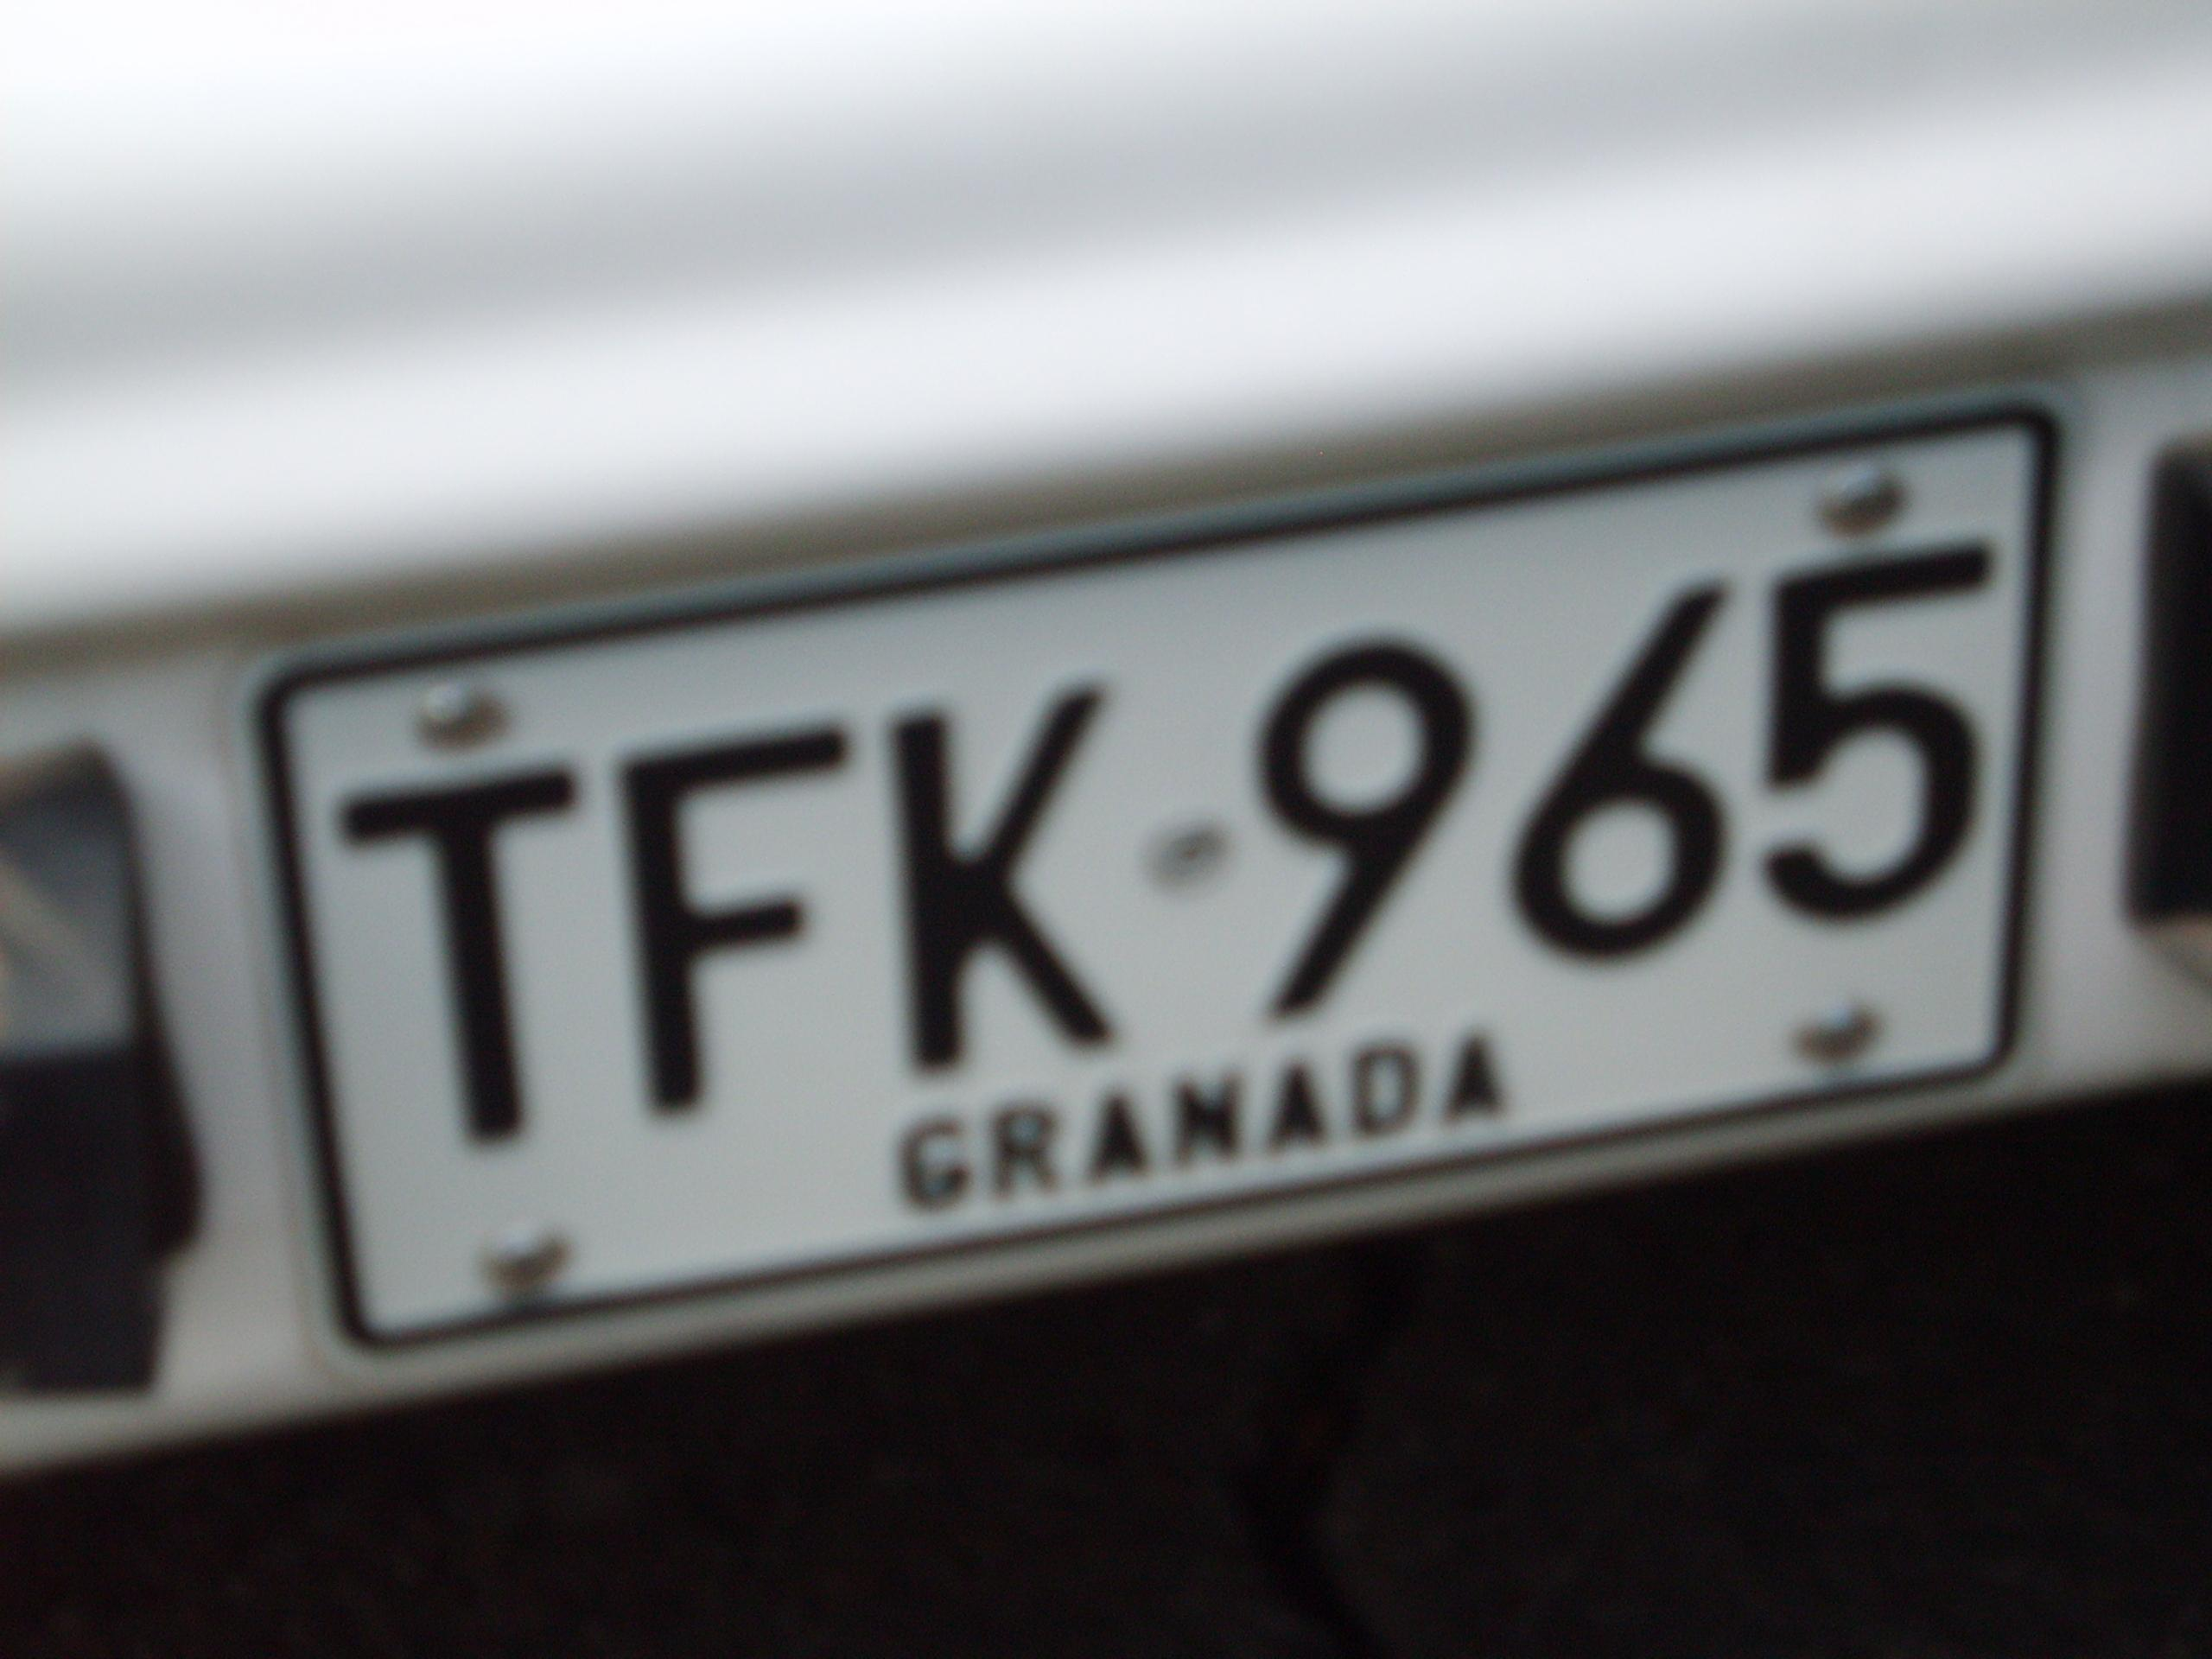placas: (231, 376, 2072, 1389)
